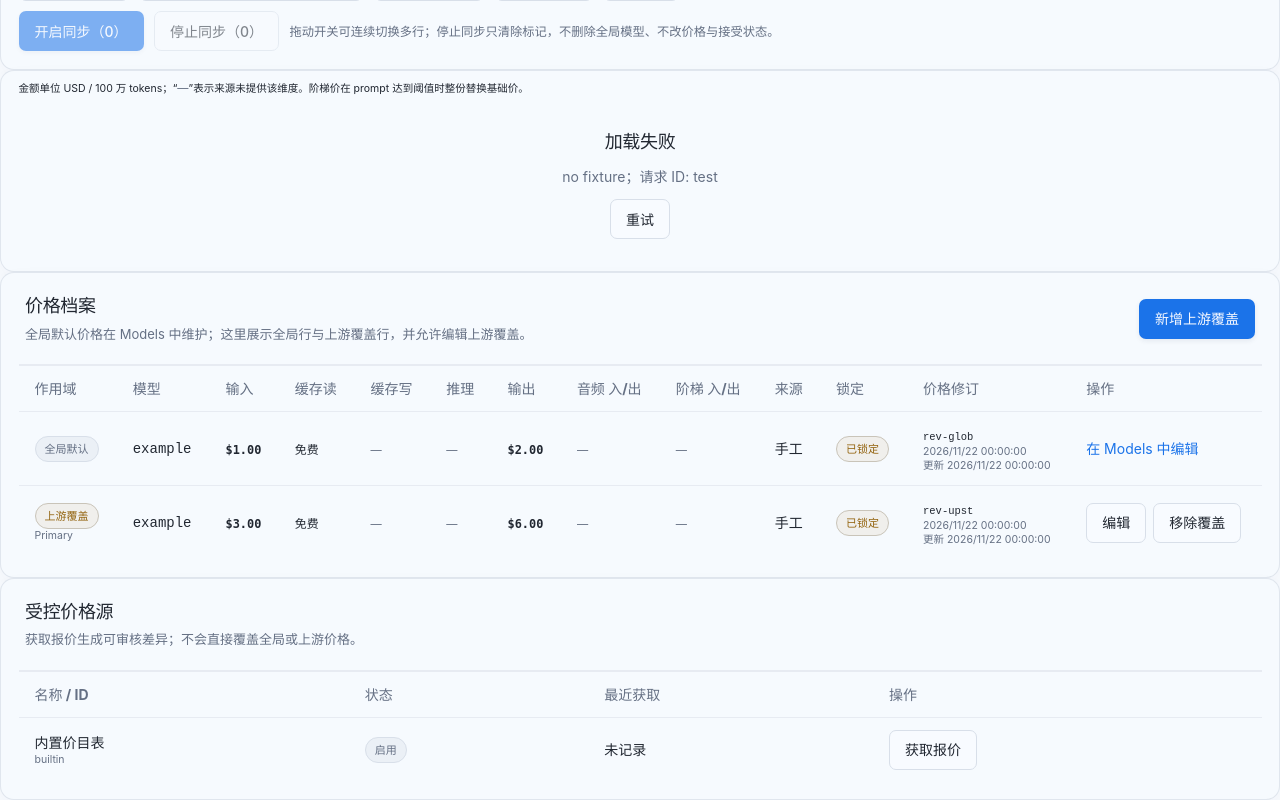
Scenario: prices surface › renders quote_review_required with its own next action
(page scrolled)
Click the button "获取报价" at [933, 750], box [889, 730, 977, 770]
(page scrolled)
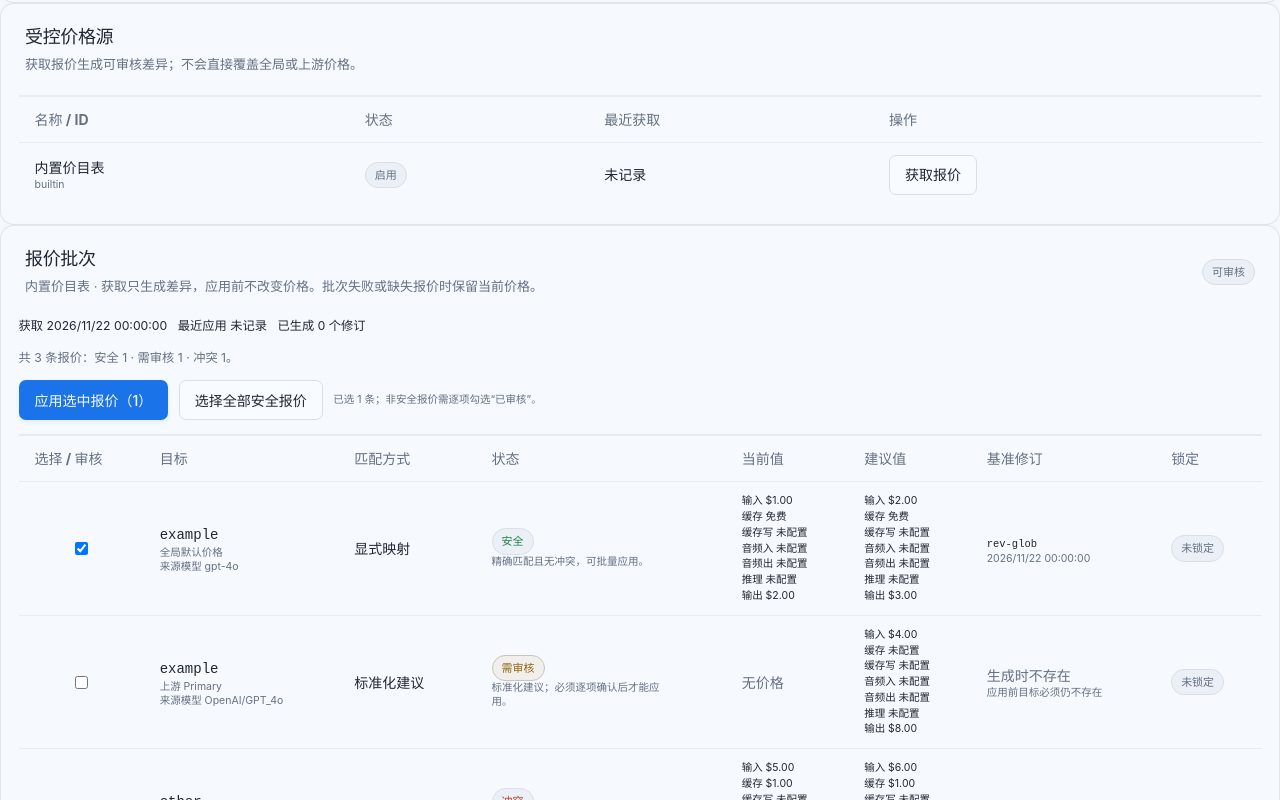
Click the button "应用选中报价（1）" at [93, 400], box [18, 380, 168, 420]
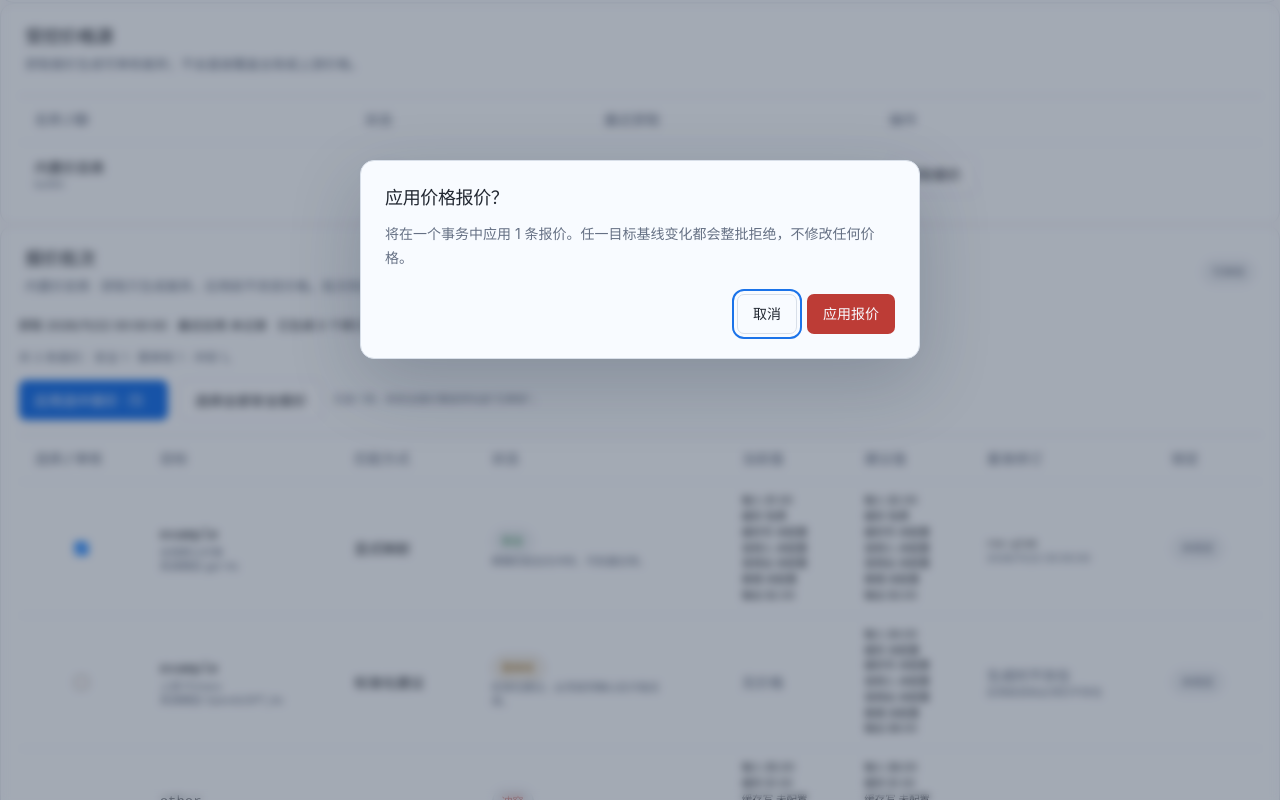
Click the button "应用报价" at [851, 314], box [807, 294, 895, 334]
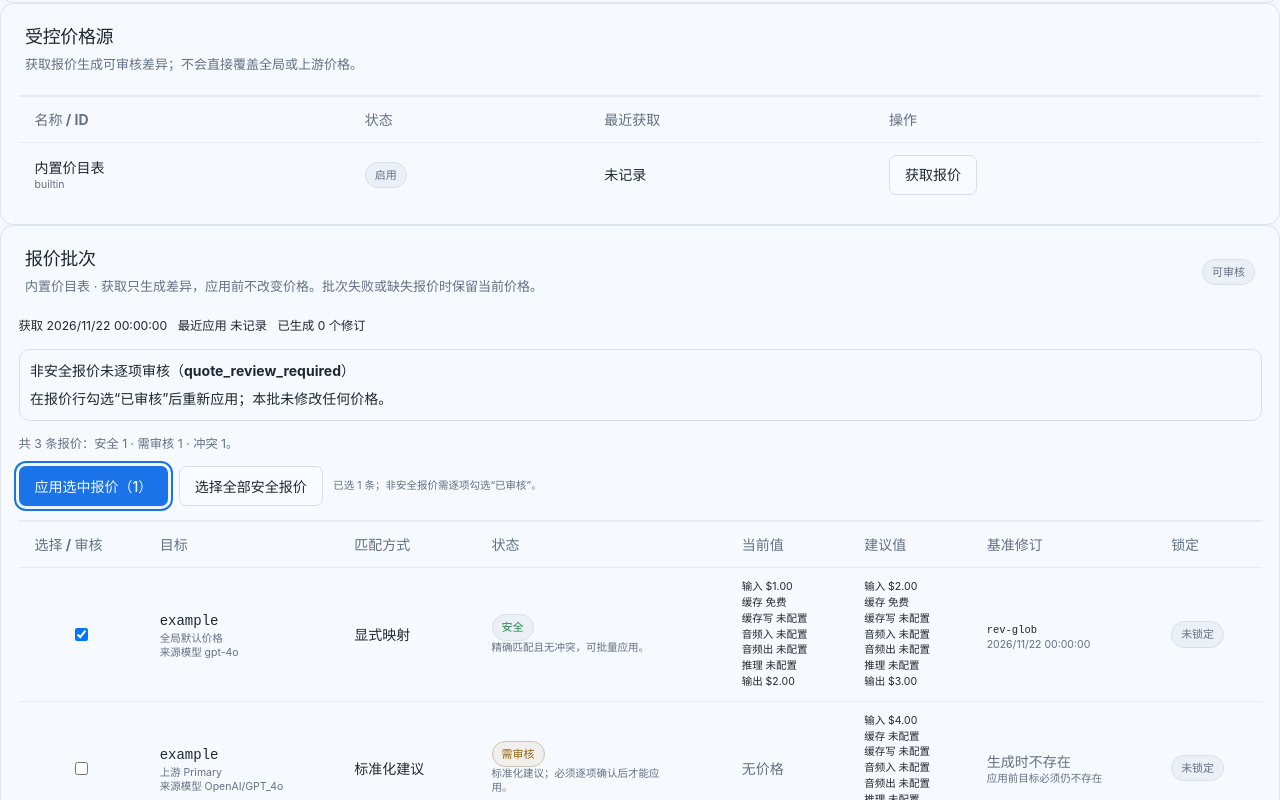
Expected: the message "非安全报价未逐项审核（quote_review_required） 在报价行勾选“已审核”后重新应用；本批未修改任何价格。" is shown, [18, 349, 1262, 421]
